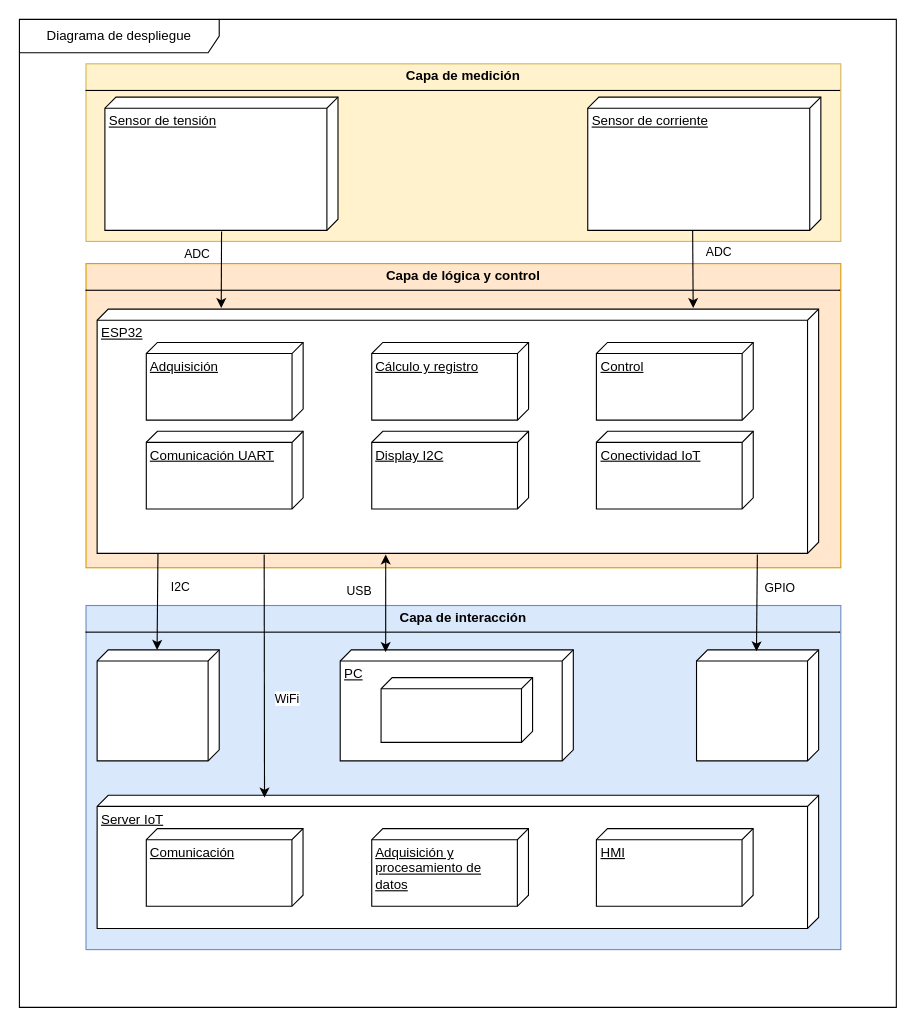
Some shapes in this 916 by 1027 pixel diagram are drawn without their labels. The centre of each missing label's shape, as x and y in pixels:
"Display" goes at [157,705].
"Driver cargas" goes at [757,705].
"Terminal UART" goes at [456,709].
